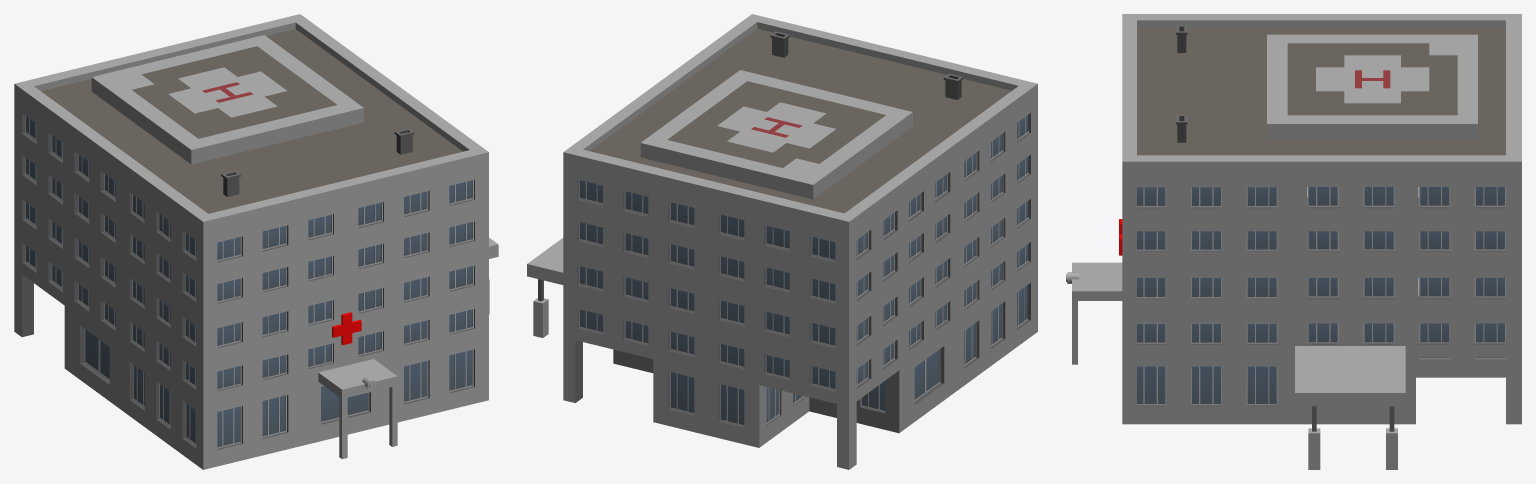
File: buildings-business-hospital_v1.glb
3 views of the same model, side by side, from view 1: azimuth 30°, elevation 25°; view 2: azimuth 150°, elevation 25°; view 3: azimuth 270°, elevation 25° (orthographic). The views are drawn at different scales.
Parts seen in each view (by area): view 1: Hospital_base, Hospital_windowRefl, Hospital_light; view 2: Hospital_base, Hospital_windowRefl; view 3: Hospital_base, Hospital_windowRefl.
Boxes of the visible parts, x1,y1,x2,y2 form: Hospital_base: (14,14,498,469); Hospital_windowRefl: (26,116,472,447); Hospital_light: (332,312,361,345); Hospital_base: (527,14,1037,469); Hospital_windowRefl: (580,115,1028,425); Hospital_base: (1066,14,1521,469); Hospital_windowRefl: (1137,187,1504,403).
Bounding box in the file's own units: 47.53 × 31.49 × 47.01.
